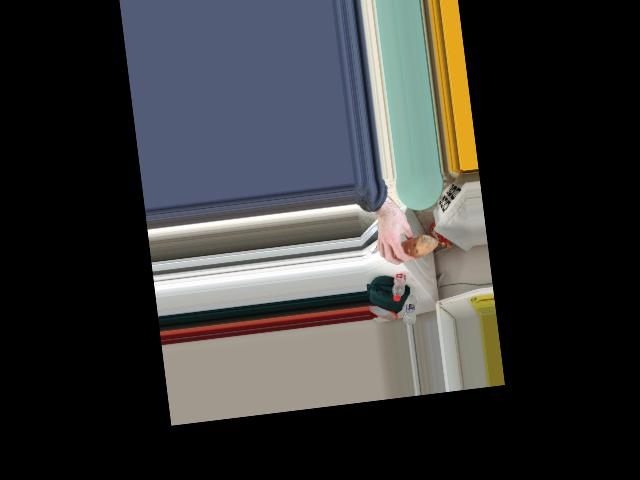sweet_potato: (396, 239, 430, 258)
